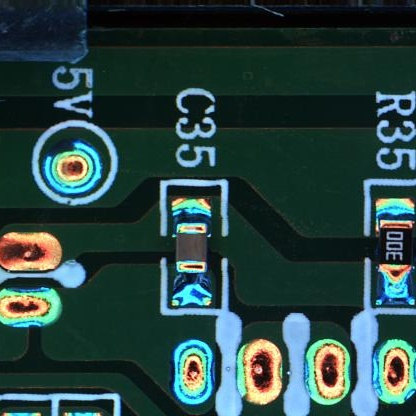spot: (305, 338, 351, 405), (237, 337, 282, 405), (42, 141, 102, 191), (373, 338, 416, 404), (172, 340, 215, 403), (1, 287, 63, 329), (1, 232, 63, 273)
